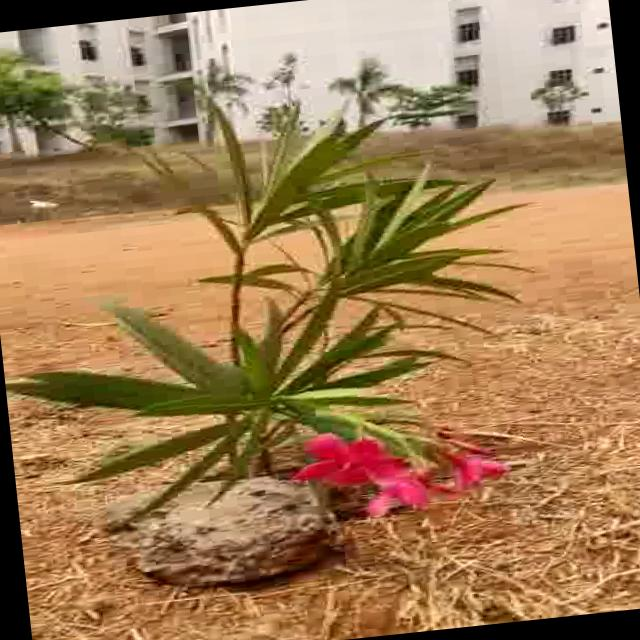Oleander: (68, 106, 540, 522)
